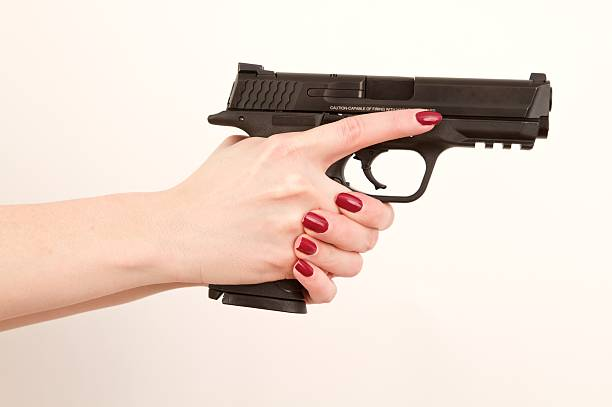gun: (209, 62, 554, 316)
